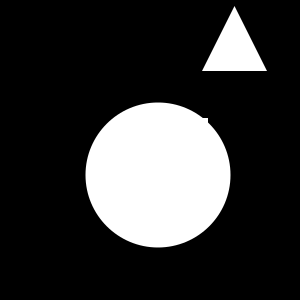circle: (116, 118, 208, 210)
rectangle: (85, 102, 230, 248)
triangle: (202, 6, 267, 71)
